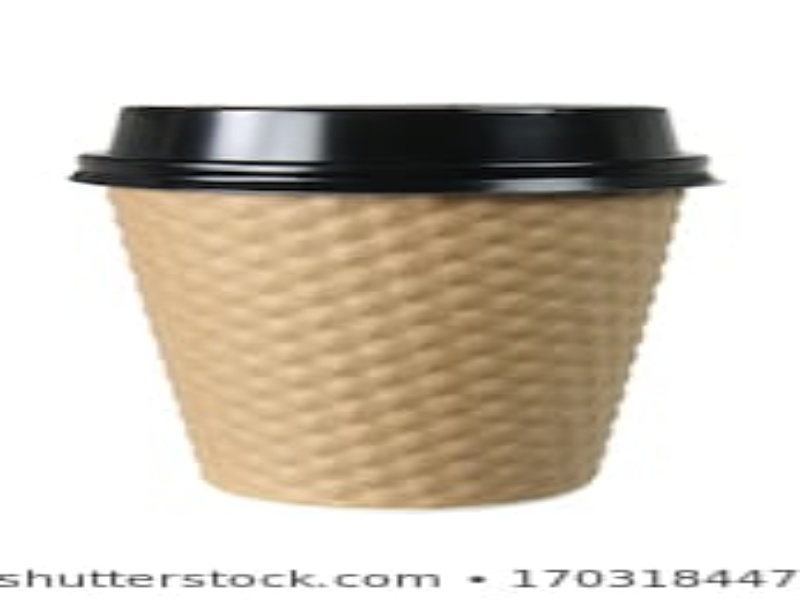coffee-lid: (69, 94, 728, 196)
